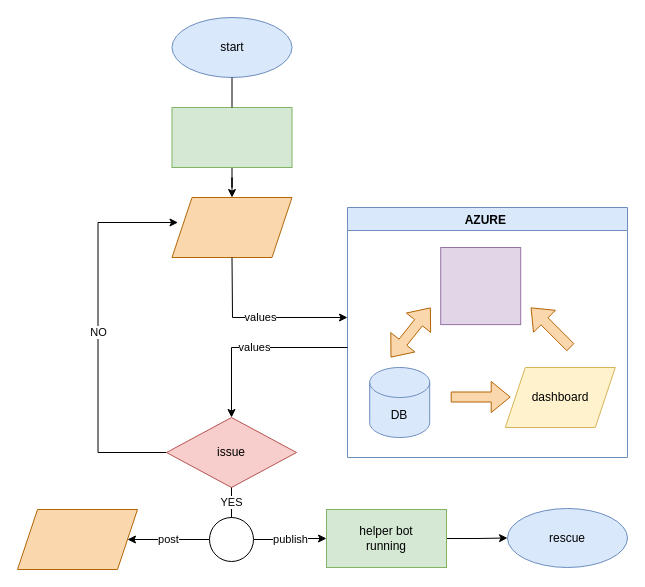
Some shapes in this 645 by 587 pixel diagram are drawn without their labels. Each missing label, with the centre of its shape:
cctv, sensor data collect: point 231,227
lce screen output: point 77,539
server on cctv on robot on lcd screen on: point 231,137
webserver: point 480,285
